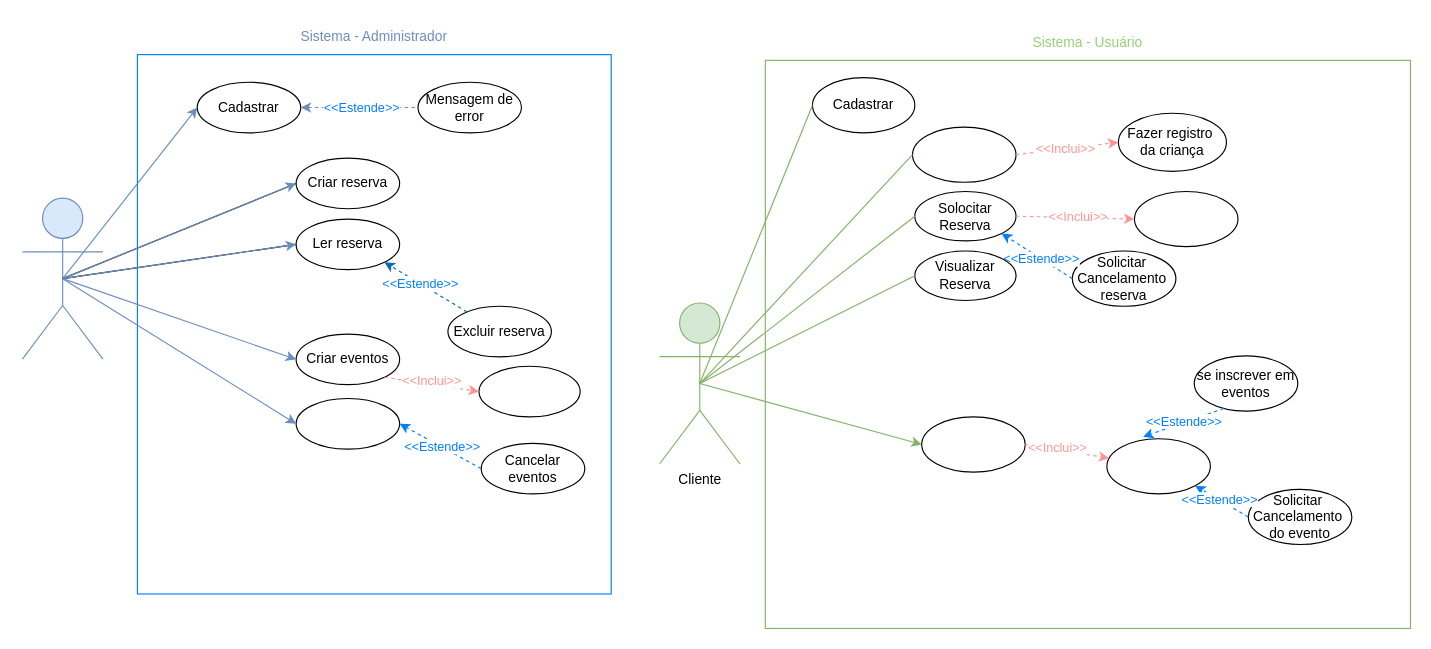
Image size: 1431x649. Some labels were removed from this diagram. The centre of each missing label's shape, as x and y in pixels:
"Administrador" belongs at point 62,278.
"Definir data da reserva" belongs at point 1185,218.
"Definir vagas de evento" belongs at point 529,391.
"Editar eventos" belongs at point 347,423.
"Fazer Registro" belongs at point 963,154.
"Ver vagas do evento" belongs at point 1158,466.
"Visualizar evento" belongs at point 973,444.
